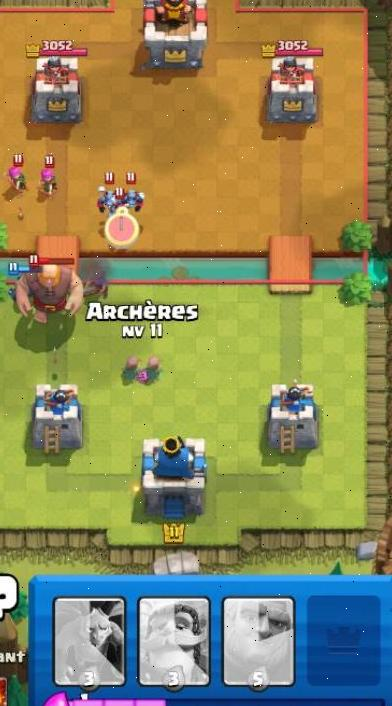enemy_archers: (4, 155, 31, 193), (36, 156, 62, 195)
enemy_giant: (12, 259, 87, 325)
enemy_minions: (120, 182, 148, 213), (94, 183, 121, 214)
player_archers: (141, 348, 169, 385), (118, 351, 146, 388)
